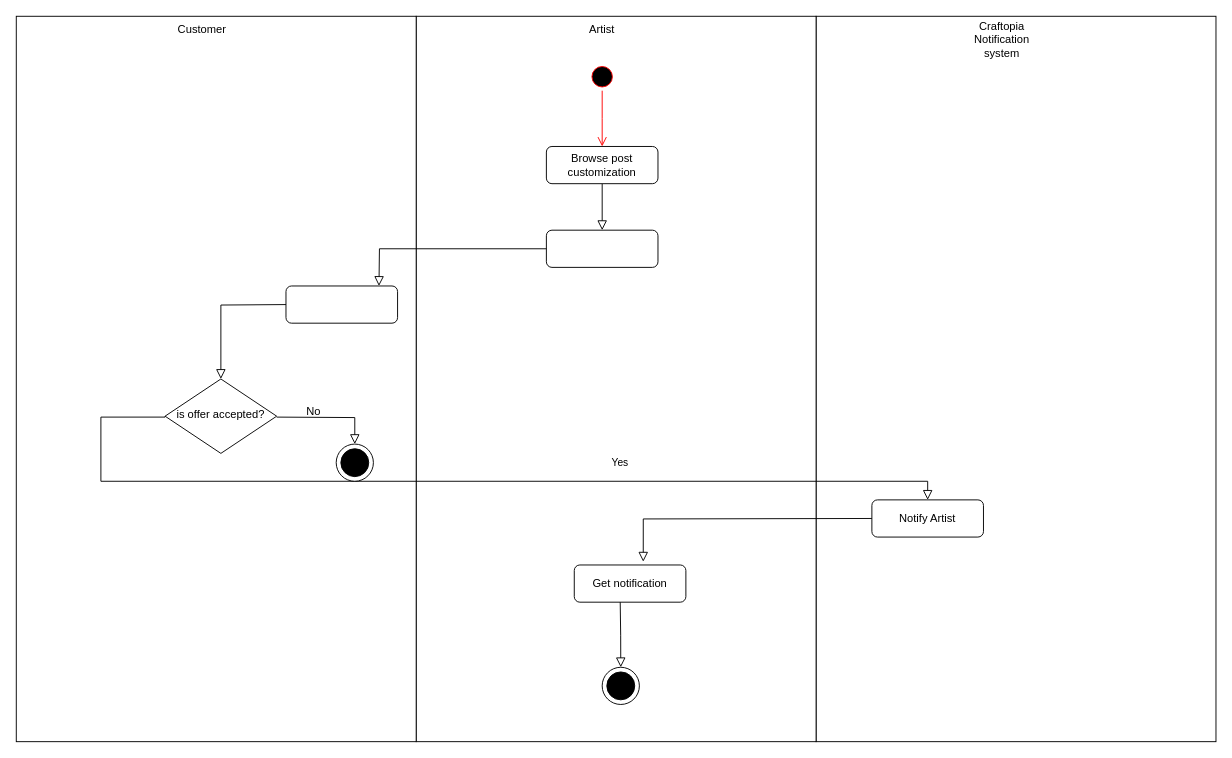
The diagram is 1232 pixels wide and 758 high, and some of its shapes have lost their labels. Here are the shapes that lost their labels. From the top down, the box of each, then its label:
(545, 229, 658, 267): Submit an offer
(285, 285, 398, 323): Get offer
